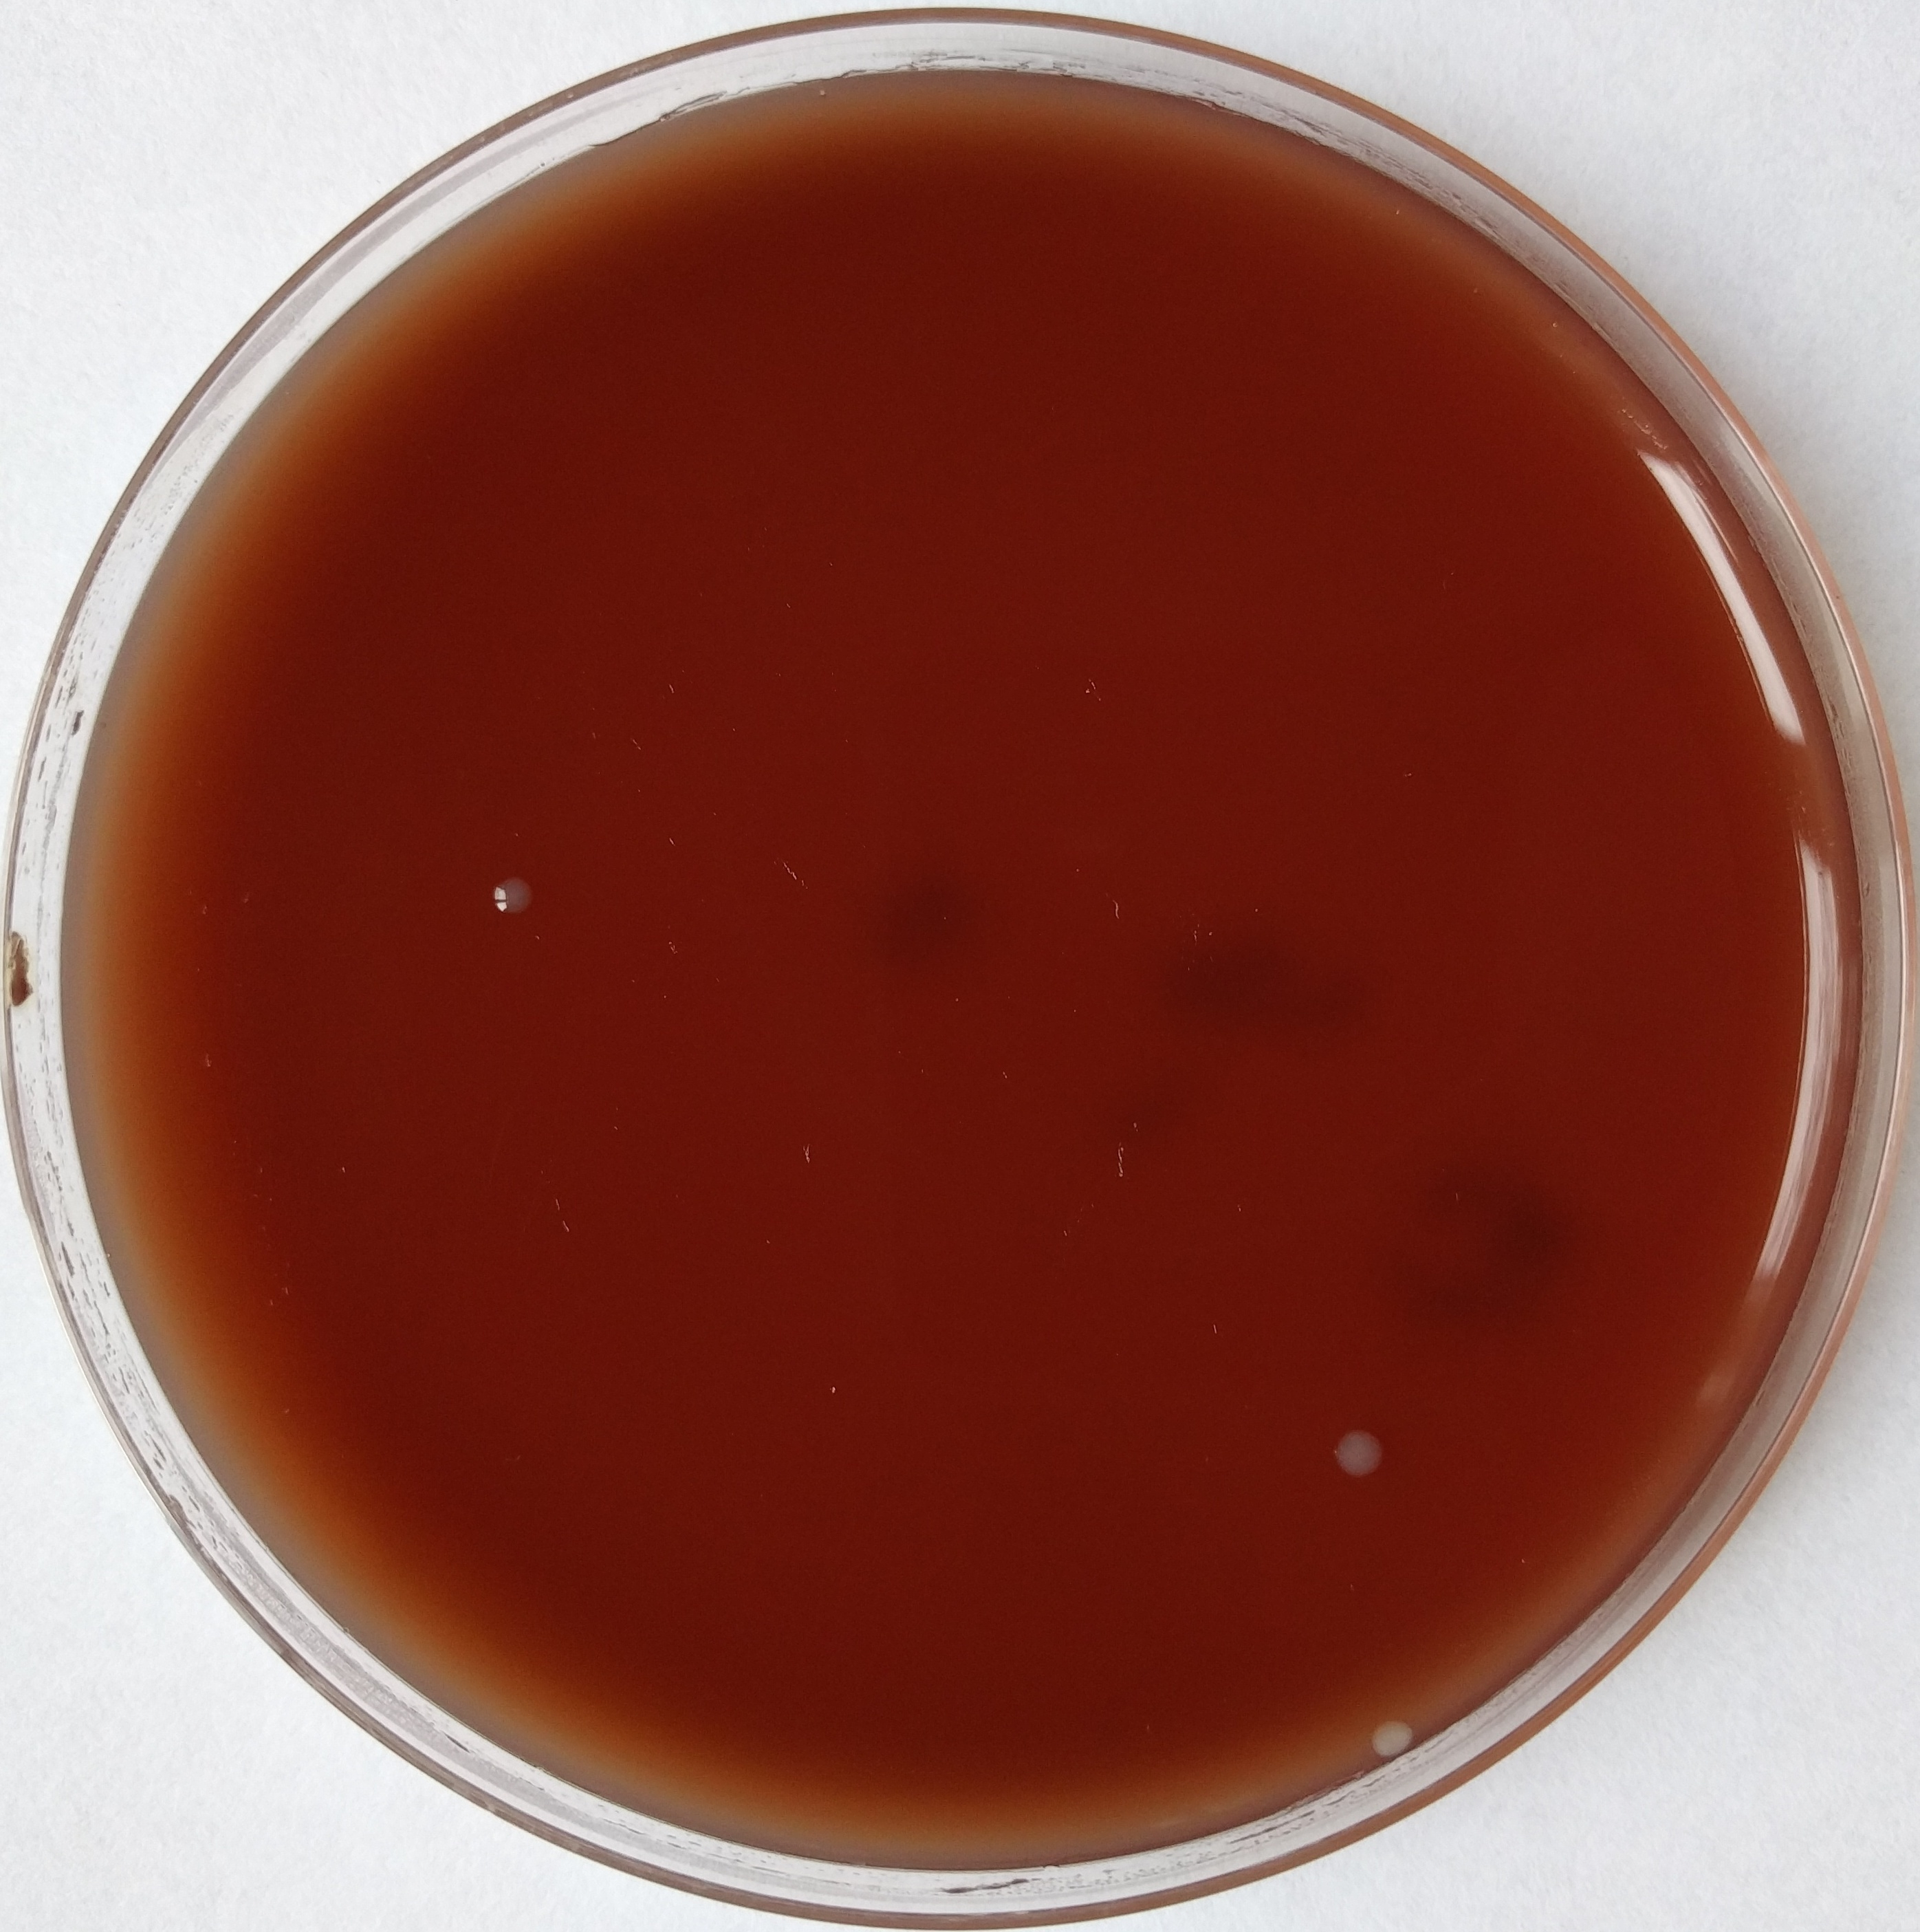sp16: (441, 851, 545, 926), (1319, 1419, 1401, 1512), (1366, 1700, 1428, 1760)
